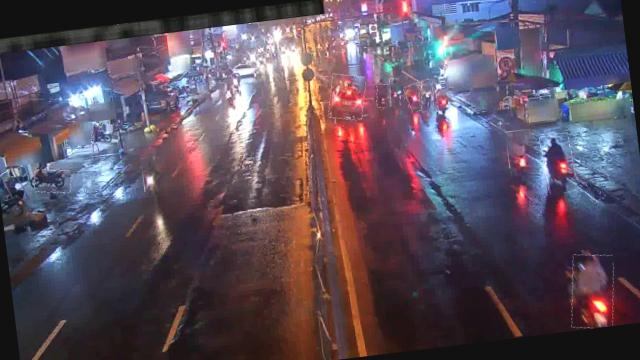Bike: (566, 250, 620, 329), (539, 132, 576, 194), (506, 129, 534, 176), (32, 166, 72, 194), (141, 156, 164, 197), (434, 86, 457, 120), (90, 122, 120, 146), (404, 82, 427, 112), (418, 79, 435, 112), (374, 82, 392, 108), (388, 78, 402, 106)
Car: (326, 71, 368, 121)
